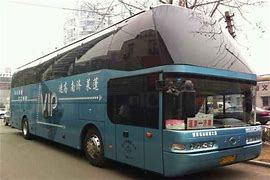bigcar: (7, 4, 263, 174)
